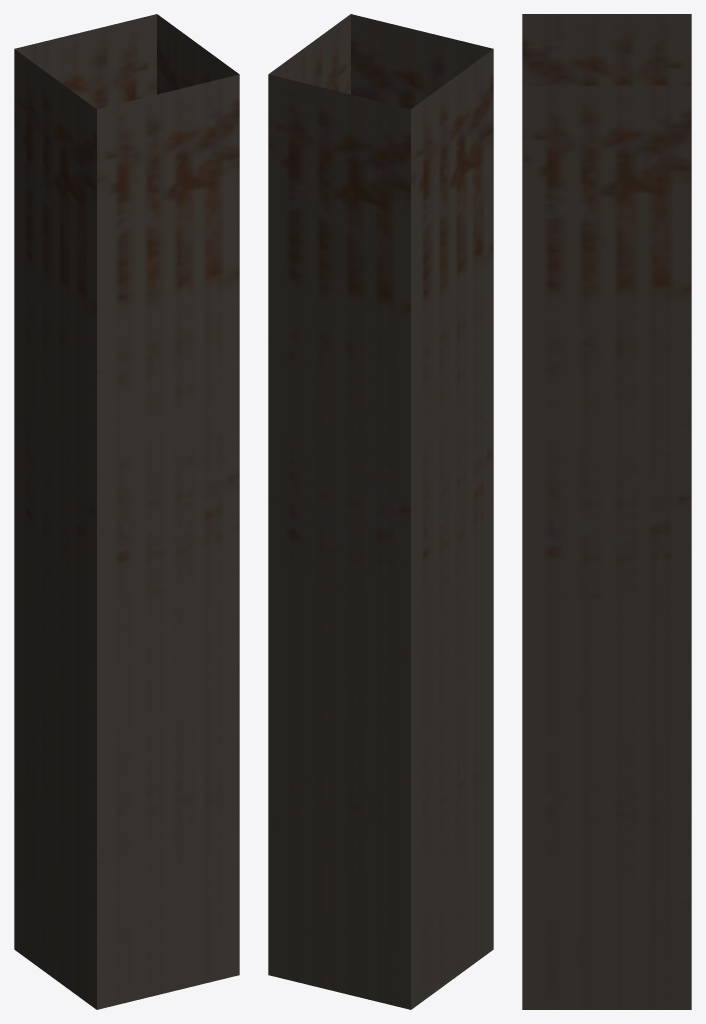
File: metal_column_center.glb
The picture shows the model from 3 angles, left to right: view 1: azimuth 30°, elevation 25°; view 2: azimuth 150°, elevation 25°; view 3: azimuth 270°, elevation 25°; orthographic projection. The views are drawn at different scales.
Parts seen in each view (by area): view 1: Metal_Column_Center; view 2: Metal_Column_Center; view 3: Metal_Column_Center.
Boxes of the visible parts, bbox=[...] form: Metal_Column_Center: bbox=[14, 14, 239, 1009]; Metal_Column_Center: bbox=[268, 14, 493, 1009]; Metal_Column_Center: bbox=[522, 14, 691, 1009].
Size of the model in its own units: 0.4978 by 3 by 0.4982.
Materials: 1 (1 with a texture image).
